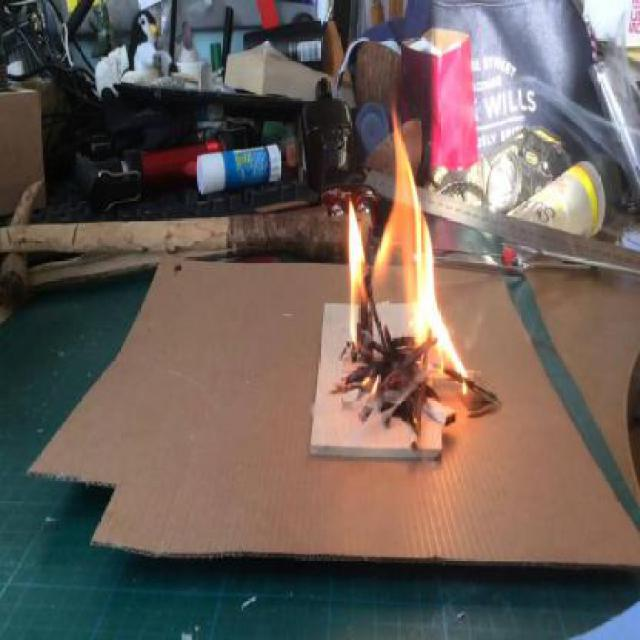fire: (315, 110, 493, 432)
